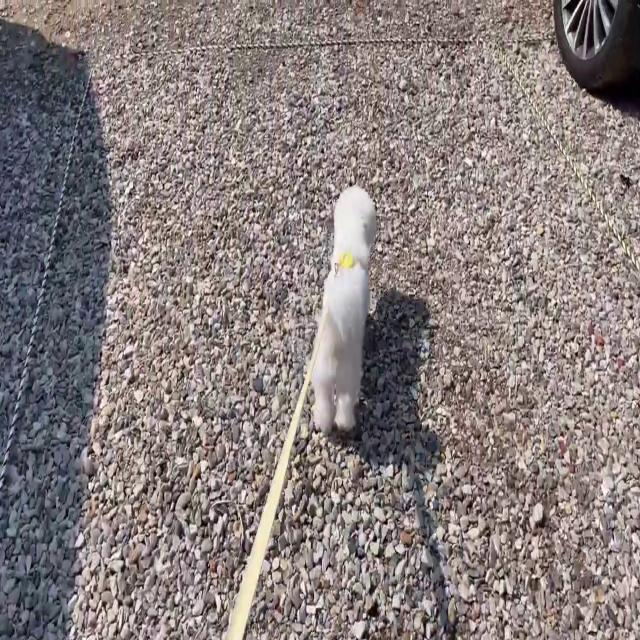Dog: (310, 185, 376, 432)
